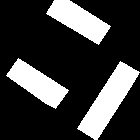parkingspot: (77, 61, 139, 140), (6, 58, 68, 108), (46, 0, 110, 44)
